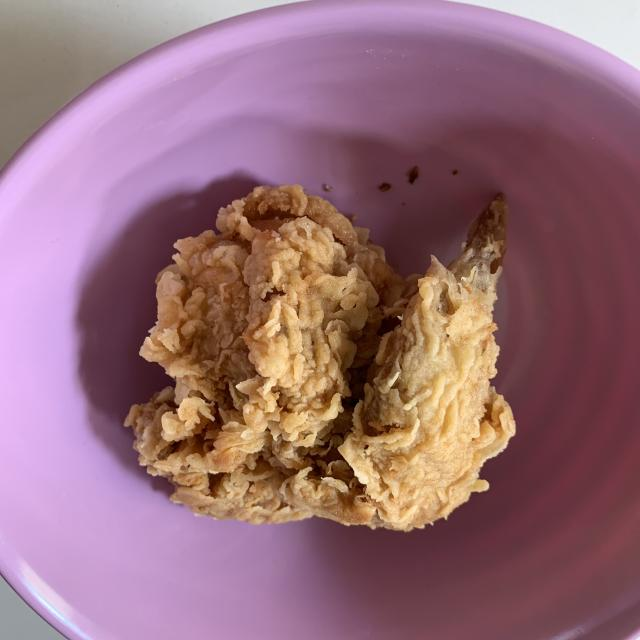Wet Waste: (124, 189, 516, 532)
